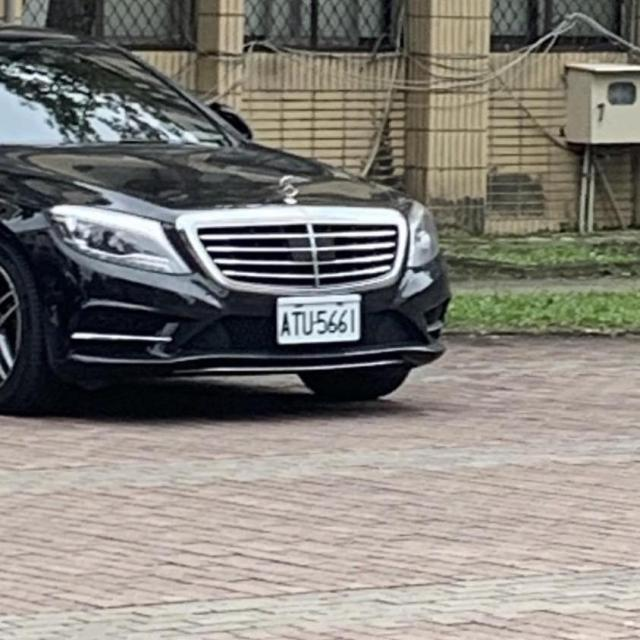W: (266, 291, 369, 352)
